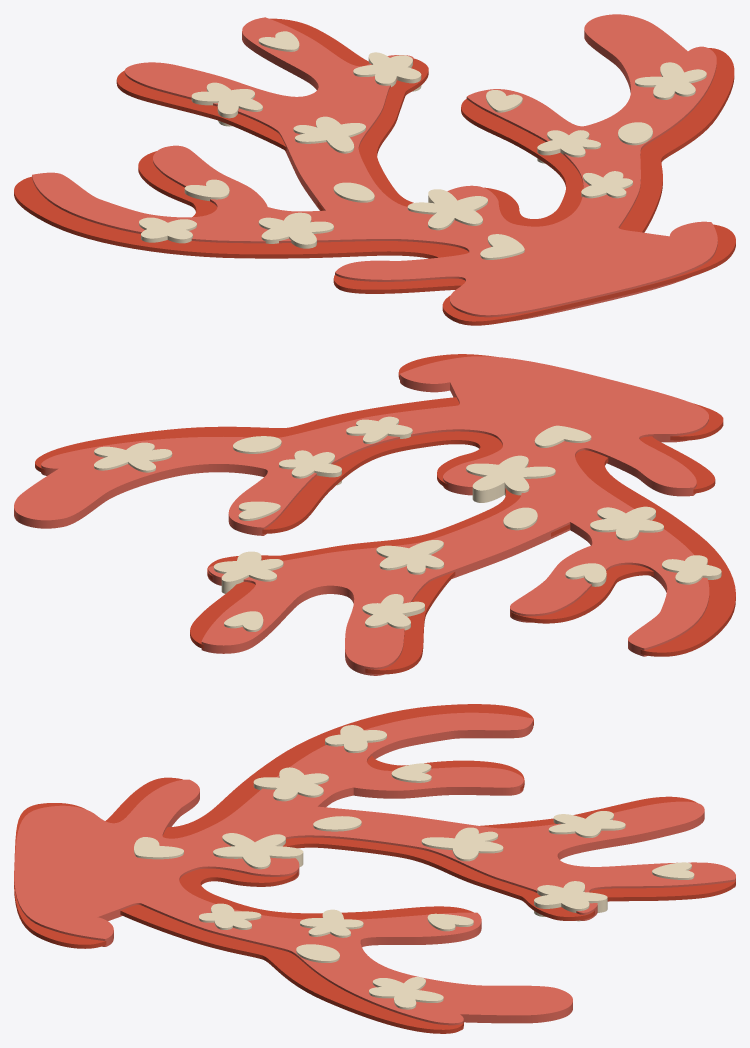
Rendered from emoji_u1fab8.glb.
3 renders of one model, top to bottom at view 1: azimuth 30°, elevation 25°; view 2: azimuth 150°, elevation 25°; view 3: azimuth 270°, elevation 25°, orthographic. The views are drawn at different scales.
Parts seen in each view (by area): view 1: emoji_u1fab8; view 2: emoji_u1fab8; view 3: emoji_u1fab8.
Part boxes in pixels (x1,y1,x2,y2): emoji_u1fab8: (14,14,735,325); emoji_u1fab8: (14,354,735,675); emoji_u1fab8: (14,704,735,1033).
Bounding box in the file's own units: 0.0345 × 0.0006 × 0.0323.
